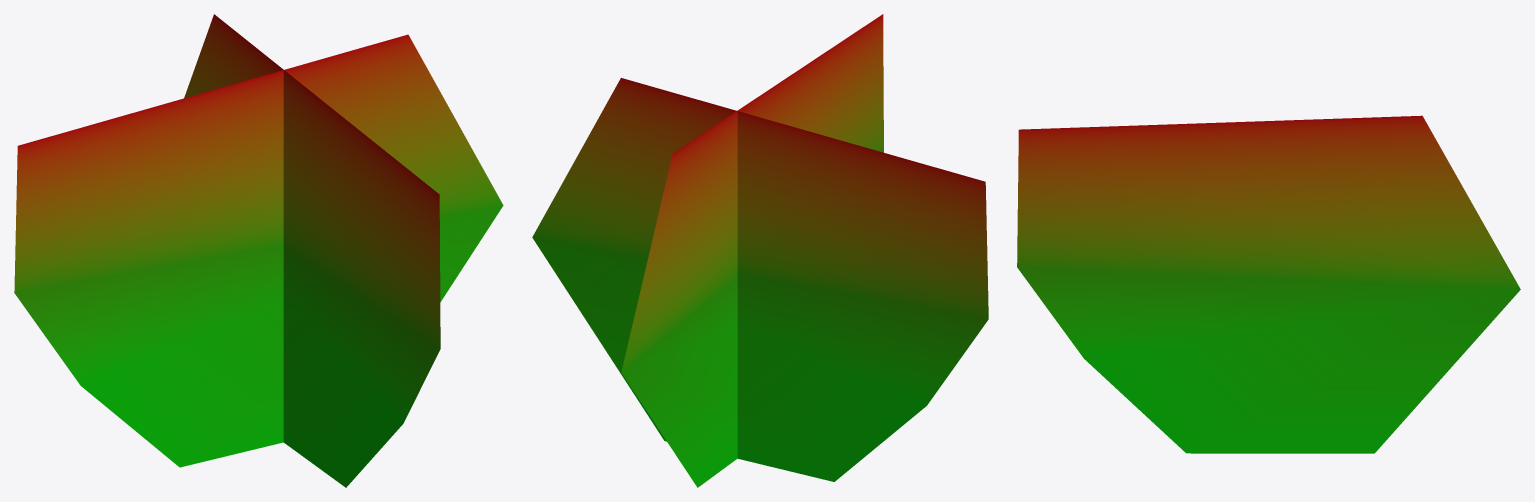
File: Var3_LOD5.fbx
3 views of the same model, side by side, from view 1: azimuth 30°, elevation 25°; view 2: azimuth 150°, elevation 25°; view 3: azimuth 270°, elevation 25° (orthographic). The views are drawn at different scales.
Visible parts, largest first — view 1: _enmd_Var3_LOD5; view 2: _enmd_Var3_LOD5; view 3: _enmd_Var3_LOD5.
Part boxes in pixels (x1,y1,x2,y2): _enmd_Var3_LOD5: [14, 14, 503, 487]; _enmd_Var3_LOD5: [532, 14, 988, 487]; _enmd_Var3_LOD5: [1017, 115, 1520, 453].
Bounding box in the file's own units: 188 × 139 × 188.
